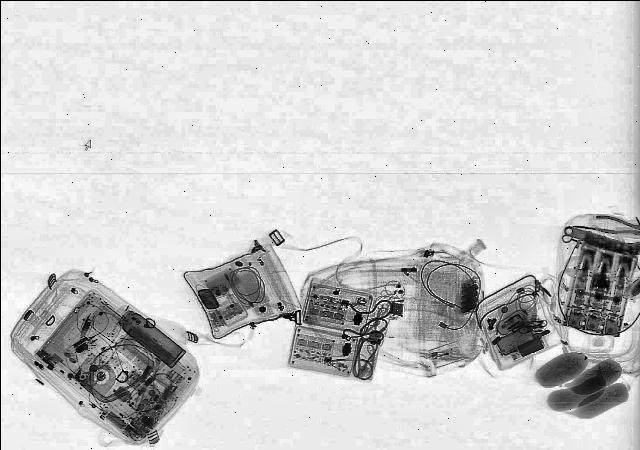Pliers: (588, 212, 640, 236)
Wrench: (560, 222, 640, 256)
